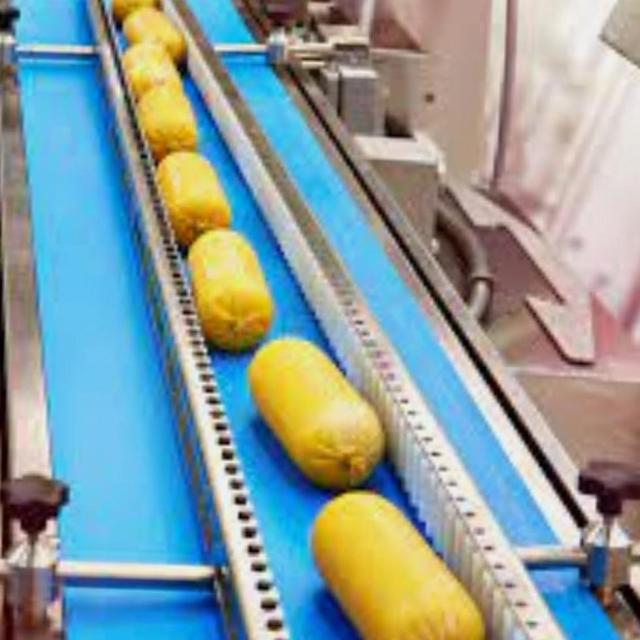food: (308, 488, 487, 639), (245, 334, 387, 491), (186, 224, 278, 356)
